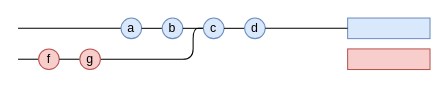
This 448x88 diagram has some shape labels left out. The box of each missing label's shape, as (x1, y1, x2, y2) in pixels:
feature: (347, 48, 430, 70)
main: (347, 17, 430, 39)
